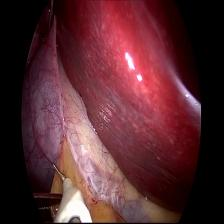Grasper: (36, 2, 57, 50), (34, 190, 62, 216)
Hook: (50, 158, 96, 223)
